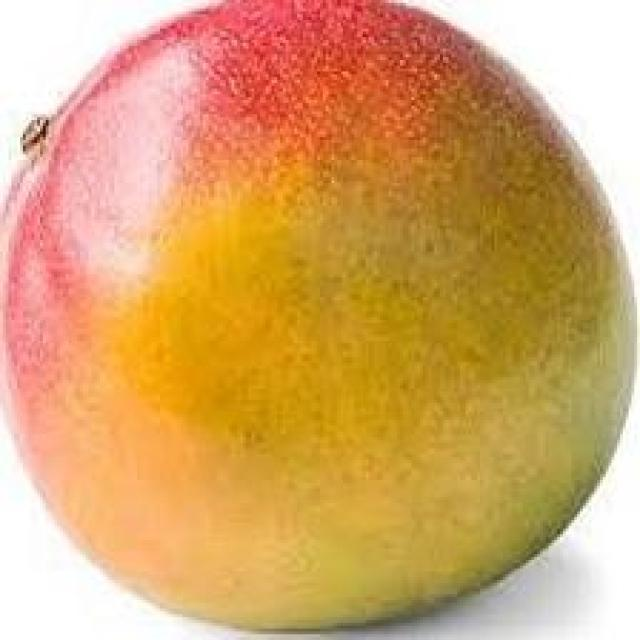Good_Mango: (0, 0, 640, 634)
